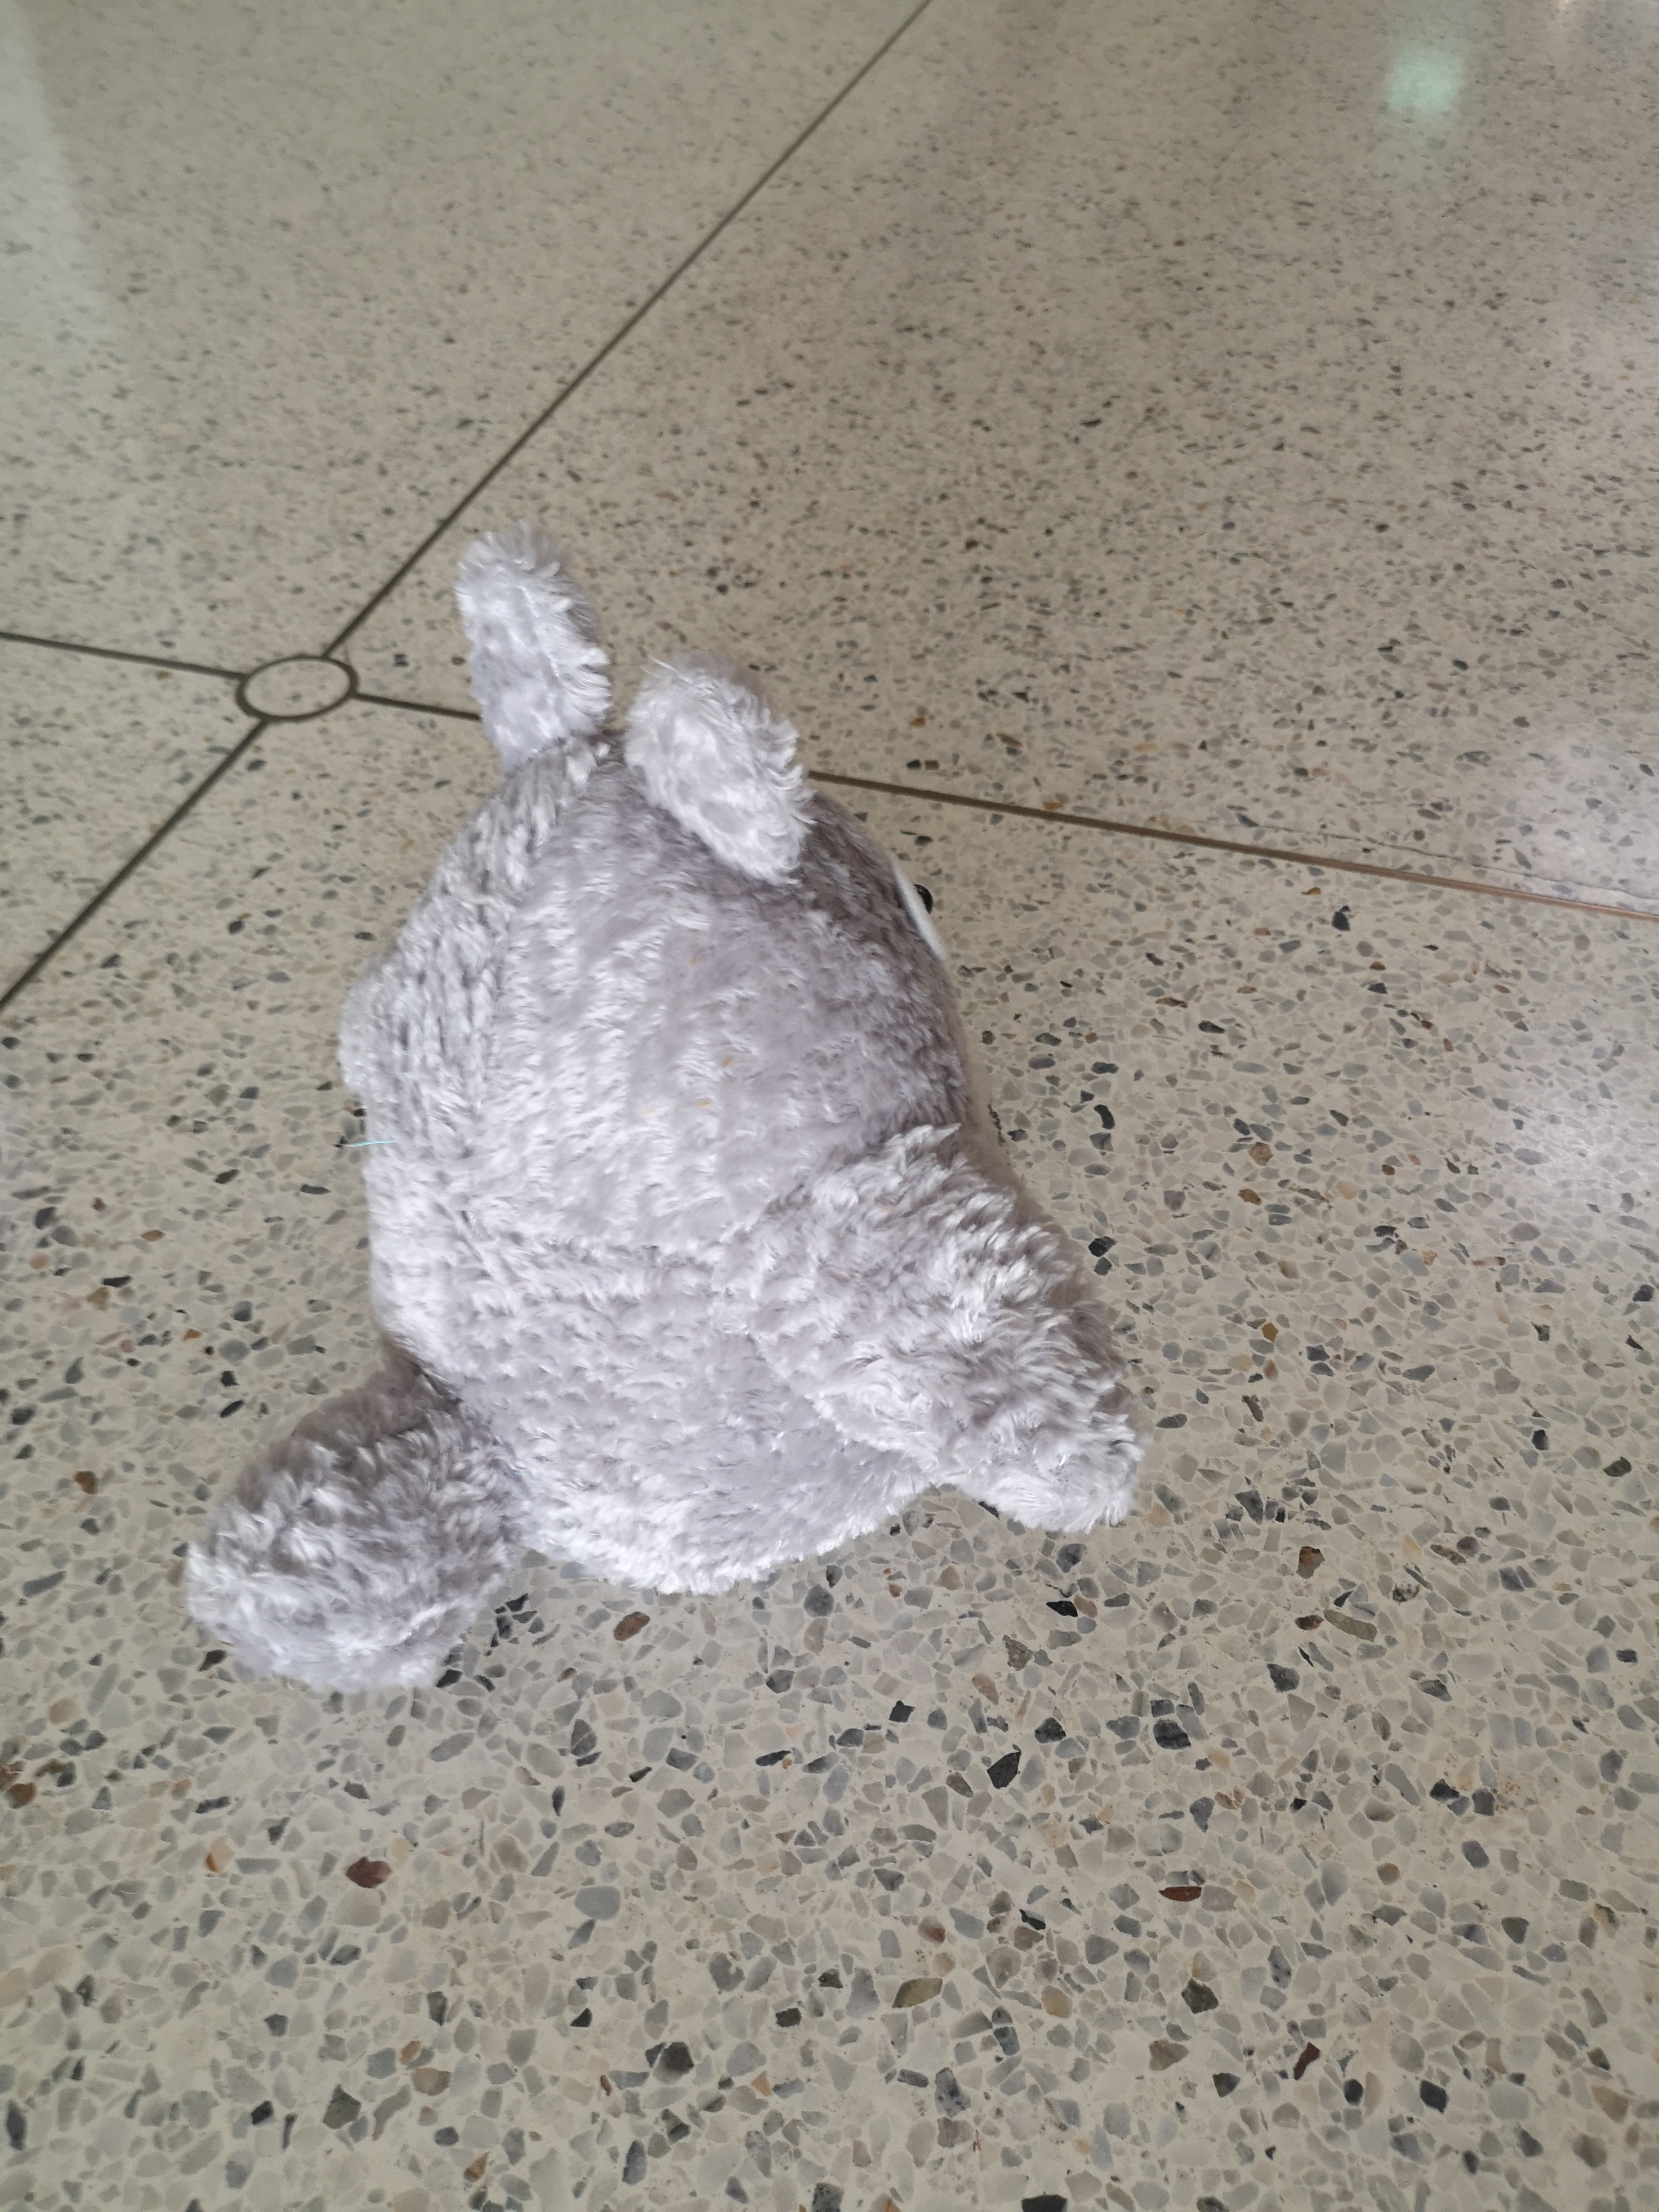totoro: (159, 521, 1145, 1733)
